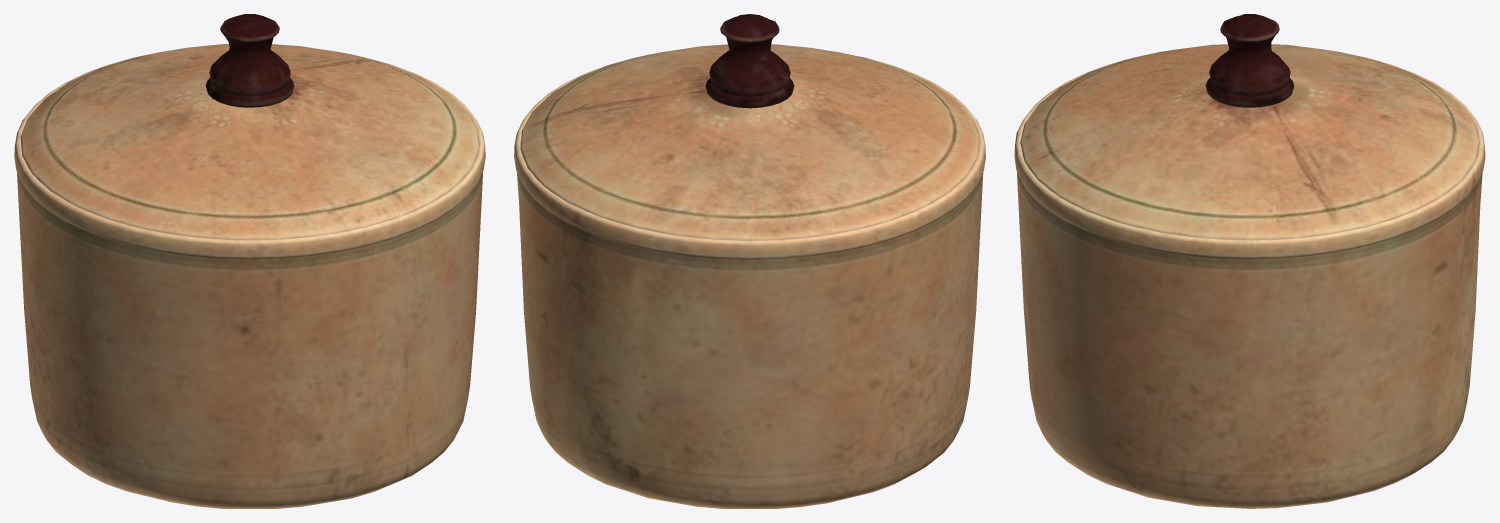
Rendered from brass_pot_01.glb.
3 views of the same model, side by side, from view 1: azimuth 30°, elevation 25°; view 2: azimuth 150°, elevation 25°; view 3: azimuth 270°, elevation 25° (orthographic).
Visible parts, largest first — view 1: brass_pot_01; view 2: brass_pot_01; view 3: brass_pot_01.
Part boxes in pixels (x1,y1,x2,y2): brass_pot_01: (14, 14, 485, 508); brass_pot_01: (514, 14, 985, 508); brass_pot_01: (1014, 14, 1485, 508).
Size of the model in its own units: 0.3019 by 0.2909 by 0.3017.
1 material, 1 textured.
